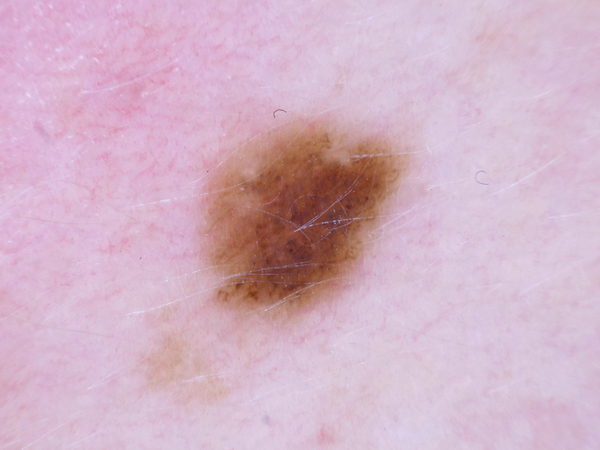Detected Lesion: (193, 123, 409, 324)
